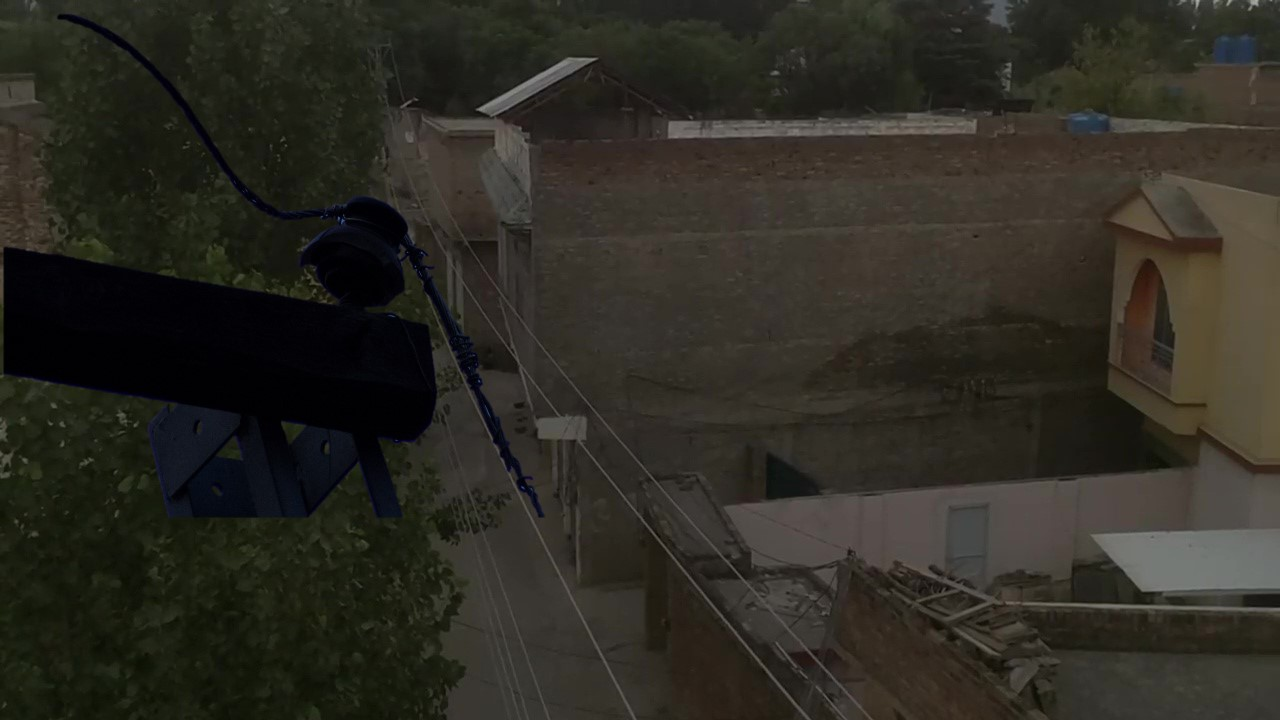defect_pin: (297, 191, 417, 313)
